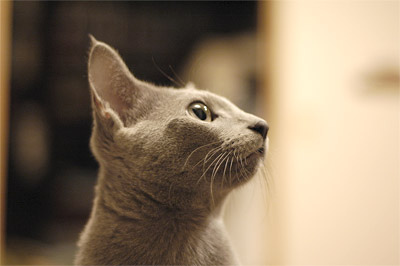cat: (75, 32, 273, 266)
